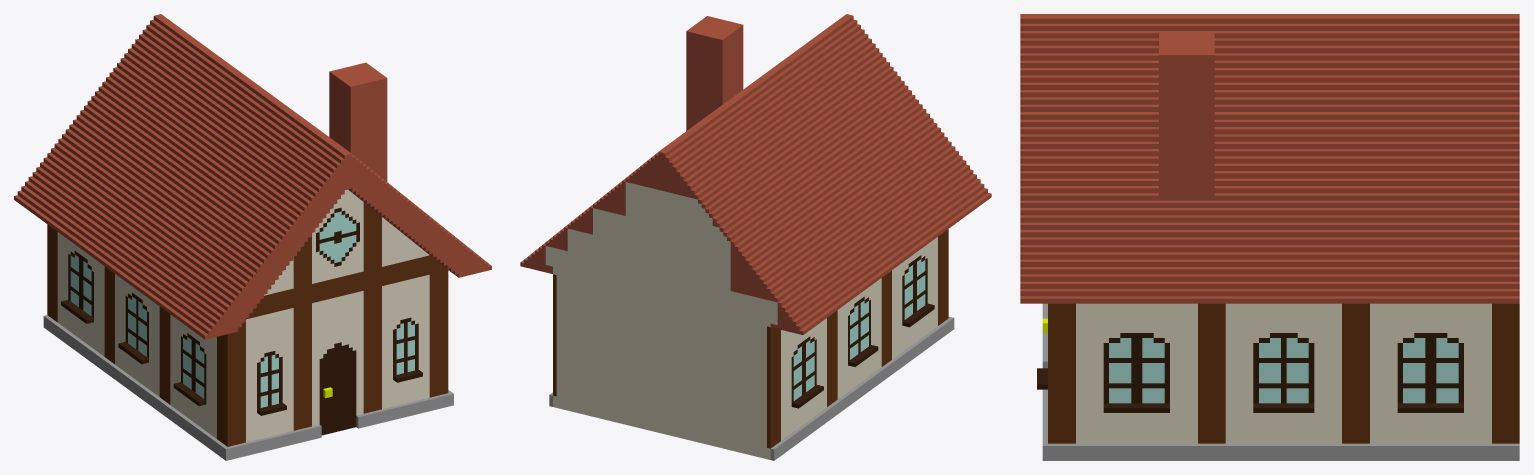
Rendered from house_rhombus.obj.
The picture shows the model from 3 angles, left to right: view 1: azimuth 30°, elevation 25°; view 2: azimuth 150°, elevation 25°; view 3: azimuth 270°, elevation 25°; orthographic projection. The views are drawn at different scales.
Size of the model in its own units: 7.8 by 7.8 by 9.
Materials: 1 (1 with a texture image).
